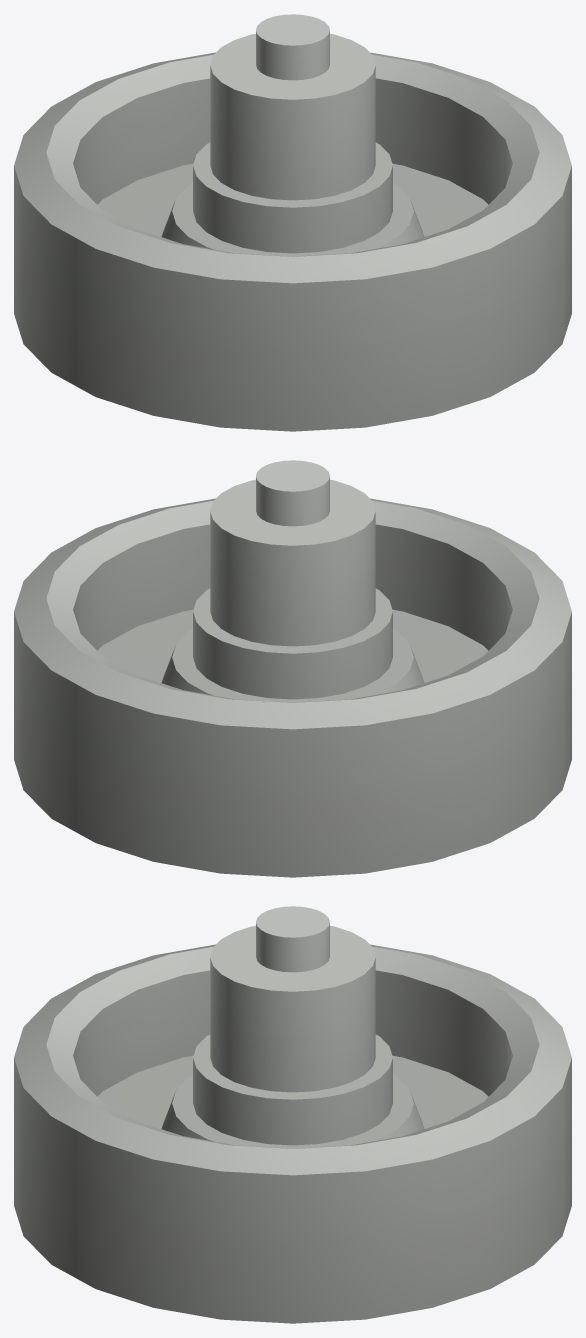
The model's file is Fountain.fbx.
3 renders of one model, top to bottom at view 1: azimuth 30°, elevation 25°; view 2: azimuth 150°, elevation 25°; view 3: azimuth 270°, elevation 25°, orthographic.
Visible parts, largest first — view 1: Fountain; view 2: Fountain; view 3: Fountain.
Boxes of the visible parts, bbox=[...] form: Fountain: bbox=[14, 14, 571, 431]; Fountain: bbox=[14, 460, 571, 877]; Fountain: bbox=[14, 906, 571, 1323].
Bounding box in the file's own units: 297 × 167 × 297.
